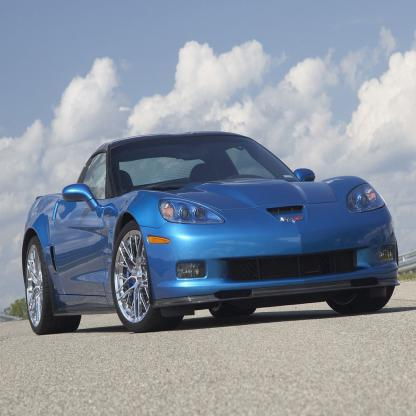car: (21, 130, 401, 336)
